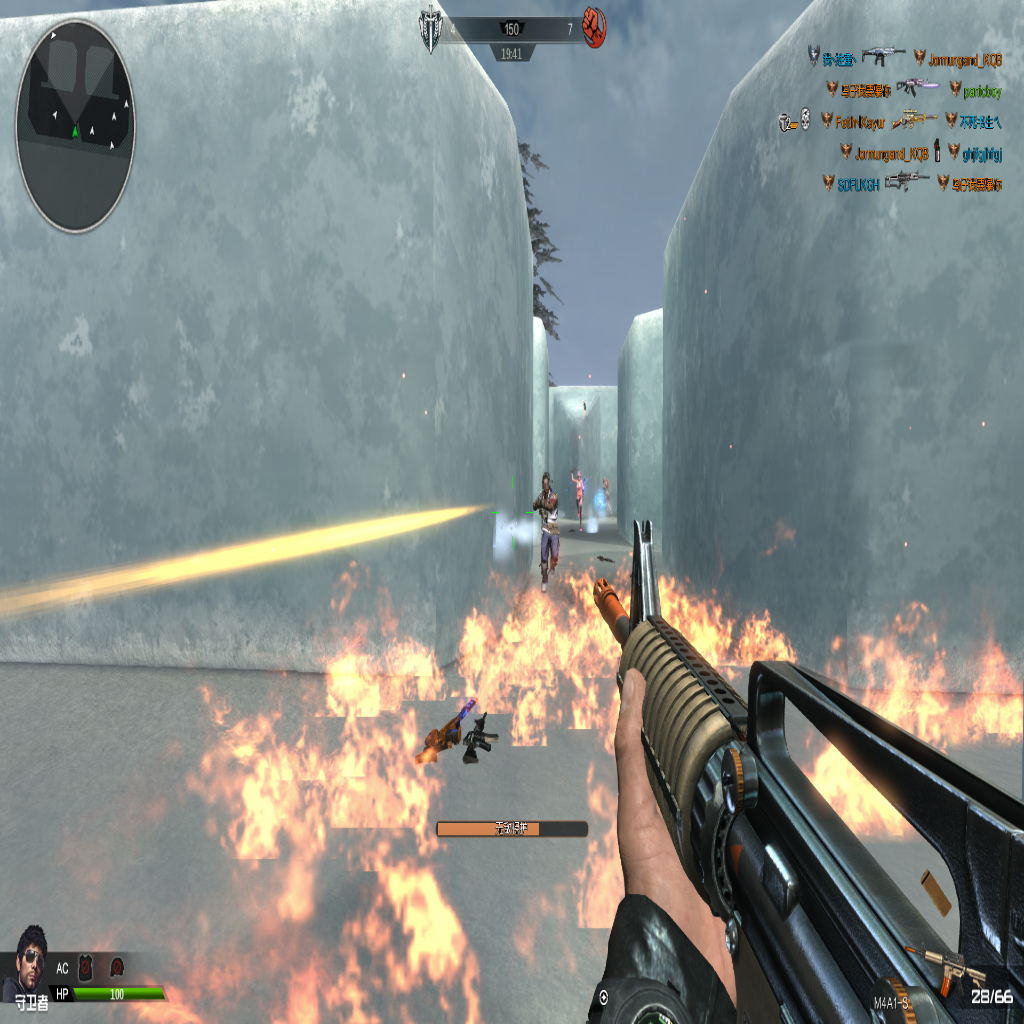tt: (533, 471, 559, 580), (573, 470, 585, 529), (600, 478, 613, 520)
